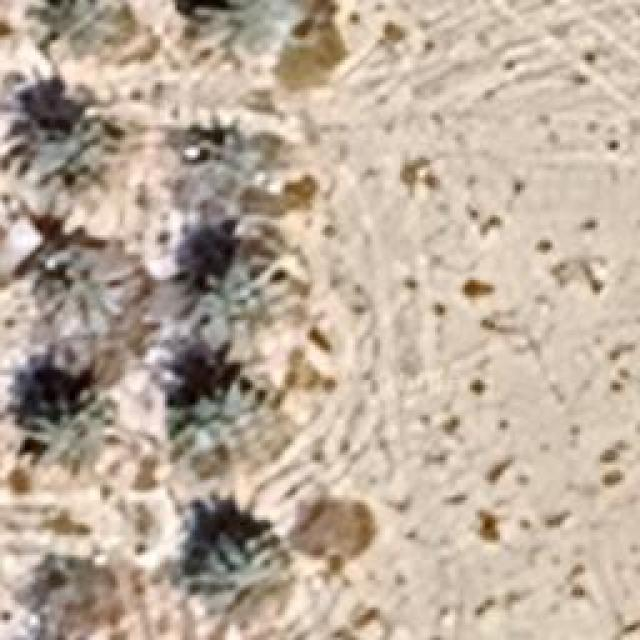PalmTree: (10, 242, 150, 340), (182, 255, 296, 360), (164, 362, 286, 460), (16, 88, 114, 202), (190, 530, 295, 635), (4, 545, 118, 640), (182, 114, 276, 224), (20, 0, 148, 75), (18, 390, 122, 472), (182, 2, 280, 68)
